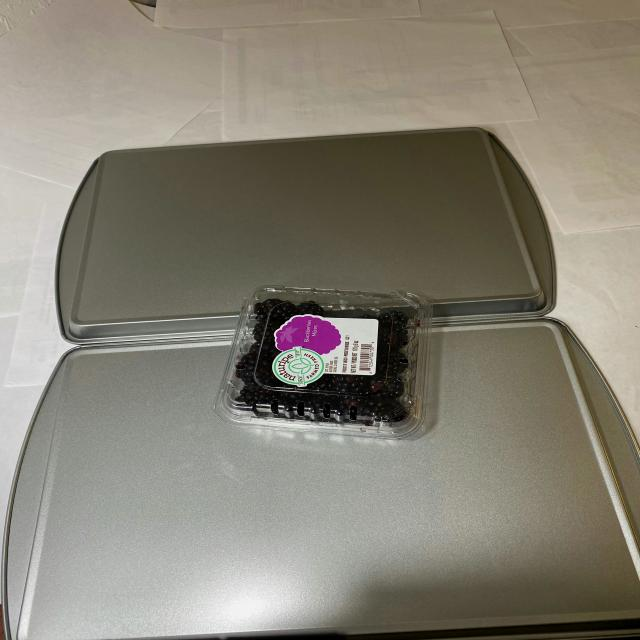blackberries: (223, 280, 430, 442)
